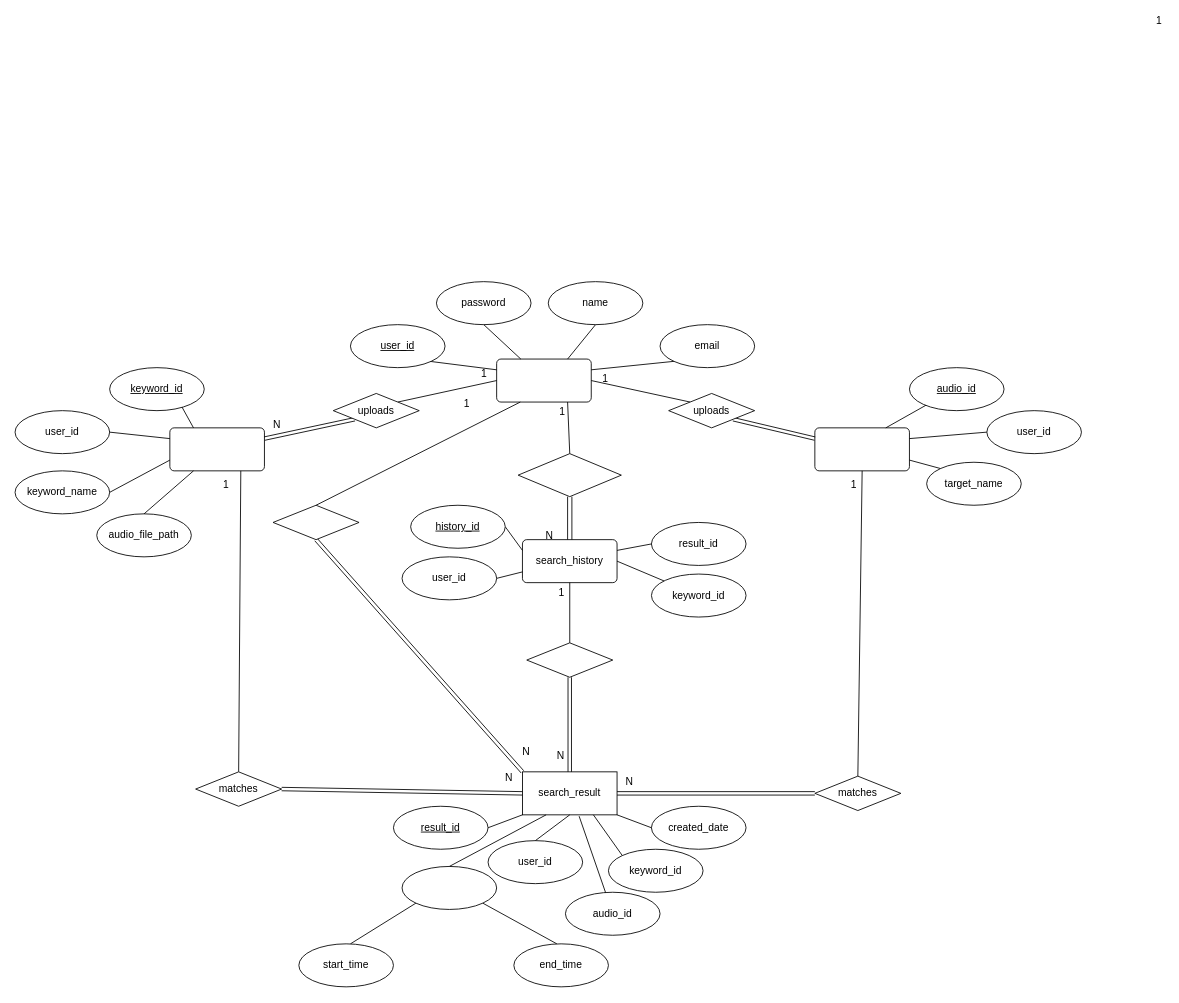
Image size: 1179x1003. Some labels were removed from this diagram. The shapes that lost their labels are listed below. From the top down, each one's centre as x and y in pixels, then its label:
At point 543,380: "user".
At point 216,449: "keyword_sample".
At point 861,449: "target_audio".
At point 569,475: "has".
At point 315,522: "views".
At point 569,659: "stores".
At point 449,887: "timestamps".
